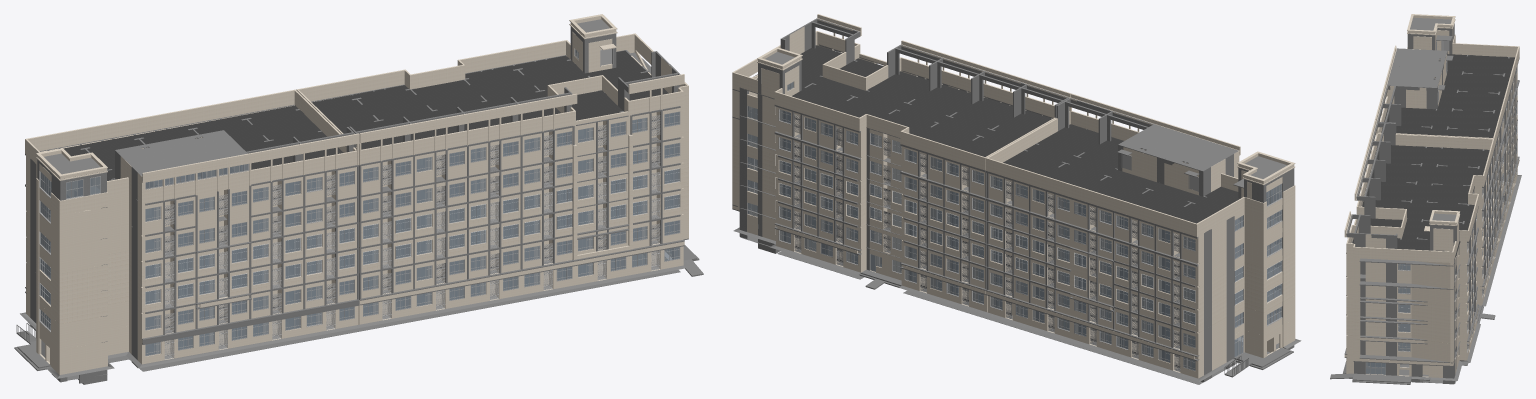
The model's file is 3xyss.gltf.
3 renders of one model, left to right at view 1: azimuth 30°, elevation 25°; view 2: azimuth 150°, elevation 25°; view 3: azimuth 270°, elevation 25°, orthographic. The views are drawn at different scales.
Visible parts, largest first — view 1: 3xyssdc01, 3xyss6c01, 3xyss1c01, 3xyss2c01, 3xyss3c01, 3xyss4c01, 3xyss5c01, 3xyss01; view 2: 3xyssdc01, 3xyss1c01, 3xyss6c01, 3xyss2c01, 3xyss4c01, 3xyss3c01, 3xyss5c01; view 3: 3xyssdc01, 3xyss1c01, 3xyss2c01, 3xyss6c01, 3xyss4c01, 3xyss3c01, 3xyss5c01.
Boxes of the visible parts, box(x1,y1,x2,y2) form: 3xyssdc01: box(25, 14, 688, 215); 3xyss6c01: box(25, 49, 688, 246); 3xyss1c01: box(14, 241, 703, 384); 3xyss2c01: box(25, 212, 688, 349); 3xyss3c01: box(26, 183, 688, 324); 3xyss4c01: box(26, 157, 688, 298); 3xyss5c01: box(25, 131, 688, 272); 3xyss01: box(572, 134, 632, 259); 3xyssdc01: box(732, 14, 1295, 236); 3xyss1c01: box(733, 207, 1301, 384); 3xyss6c01: box(732, 44, 1295, 263); 3xyss2c01: box(732, 182, 1295, 361); 3xyss4c01: box(732, 138, 1295, 309); 3xyss3c01: box(732, 159, 1295, 332); 3xyss5c01: box(732, 113, 1295, 286); 3xyssdc01: box(1344, 14, 1519, 262); 3xyss1c01: box(1330, 159, 1521, 384); 3xyss2c01: box(1344, 138, 1519, 366); 3xyss6c01: box(1346, 55, 1519, 286); 3xyss4c01: box(1346, 100, 1517, 327); 3xyss3c01: box(1346, 119, 1517, 346); 3xyss5c01: box(1346, 80, 1519, 308).
Size of the model in its own units: 82.81 by 27.3 by 29.87.
Materials: 12 (7 with a texture image).
